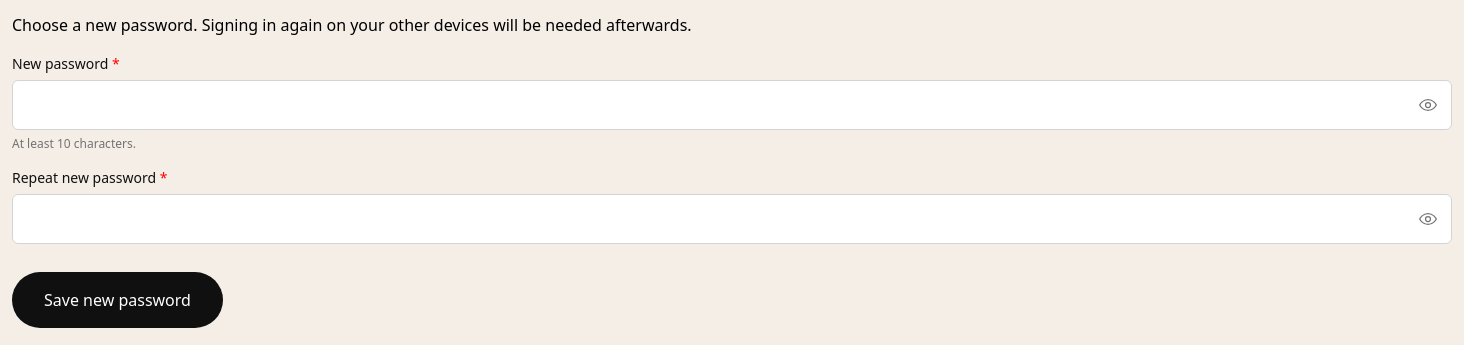
Scenario: ResetPasswordForm › refuses a password shorter than the server would accept
Type "short" into the password field labelled "New password *" at (732, 105), box [12, 80, 1452, 130]
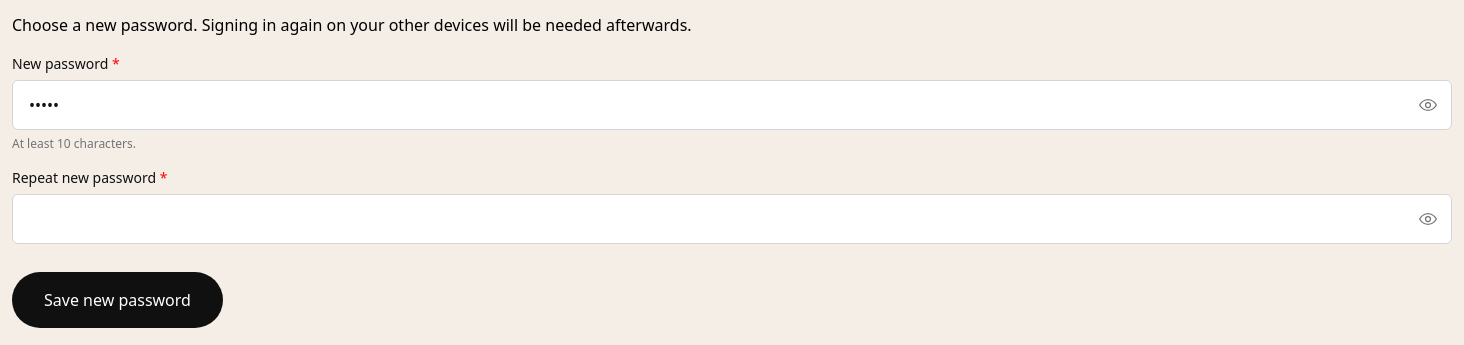
Type "short" into the password field labelled "Repeat new password *" at (732, 219), box [12, 194, 1452, 244]
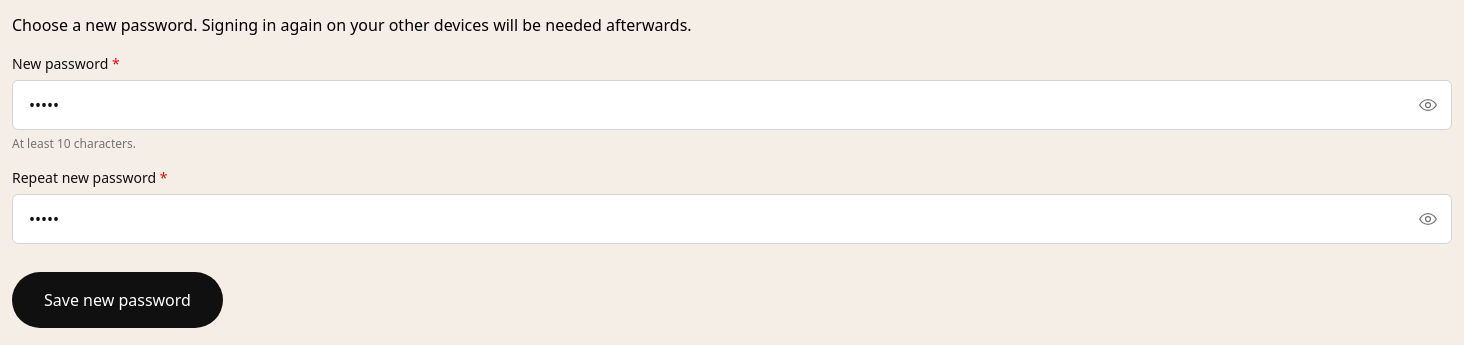
Click the button "Save new password" at (117, 300), box [12, 272, 223, 328]
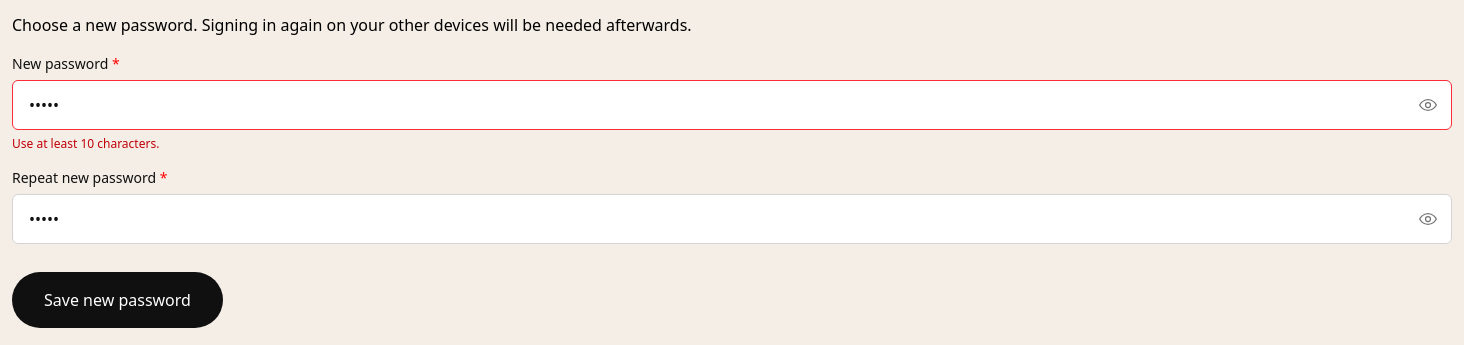
expect the text "Use at least 10 characters." is shown: met, box [12, 135, 159, 152]
